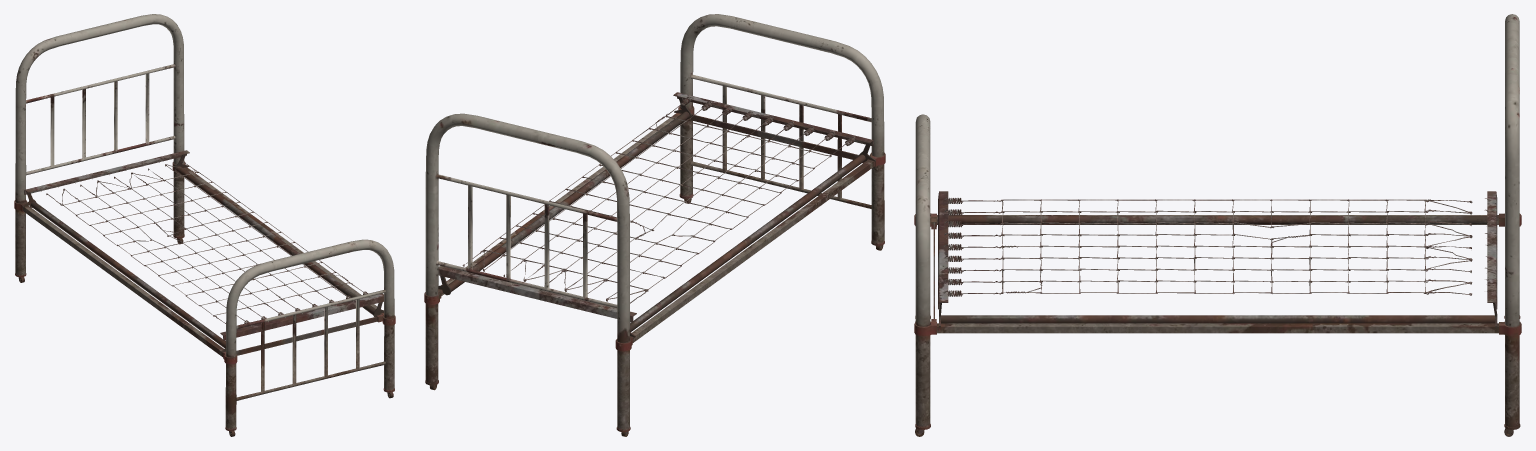
The model's file is old_bed_frame.glb.
3 views of the same model, side by side, from view 1: azimuth 30°, elevation 25°; view 2: azimuth 150°, elevation 25°; view 3: azimuth 270°, elevation 25° (orthographic). The views are drawn at different scales.
Parts seen in each view (by area): view 1: old_bed_frame; view 2: old_bed_frame; view 3: old_bed_frame.
Boxes of the visible parts, left/top/right/bottom form: old_bed_frame: left=14, top=14, right=395, bottom=436; old_bed_frame: left=424, top=14, right=885, bottom=436; old_bed_frame: left=914, top=14, right=1521, bottom=436.
Bounding box in the file's own units: 0.9047 × 1.2 × 2.
Materials: 1 (1 with a texture image).
